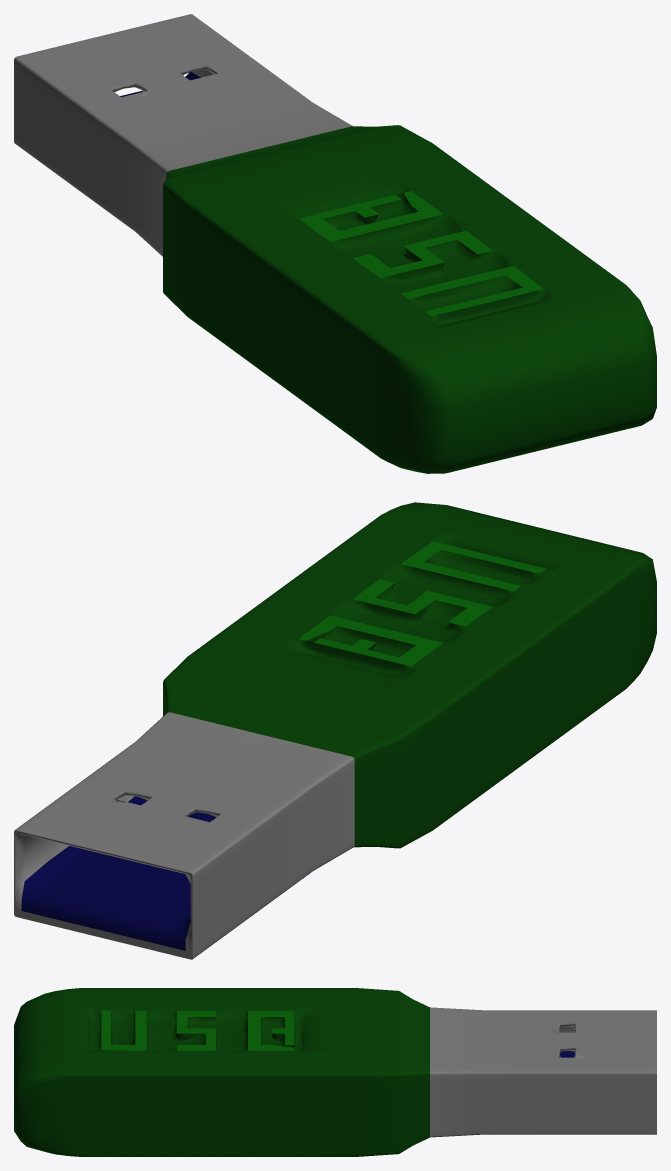
Rendered from USB-Stick.fbx.
The picture shows the model from 3 angles, top to bottom: view 1: azimuth 30°, elevation 25°; view 2: azimuth 150°, elevation 25°; view 3: azimuth 270°, elevation 25°; orthographic projection. The views are drawn at different scales.
Visible parts, largest first — view 1: pCube1; view 2: pCube1; view 3: pCube1.
Boxes of the visible parts, x1,y1,x2,y2 form: pCube1: [14, 14, 656, 473]; pCube1: [14, 502, 656, 959]; pCube1: [14, 988, 656, 1156].
Size of the model in its own units: 5.79 by 2.61 by 18.11.
